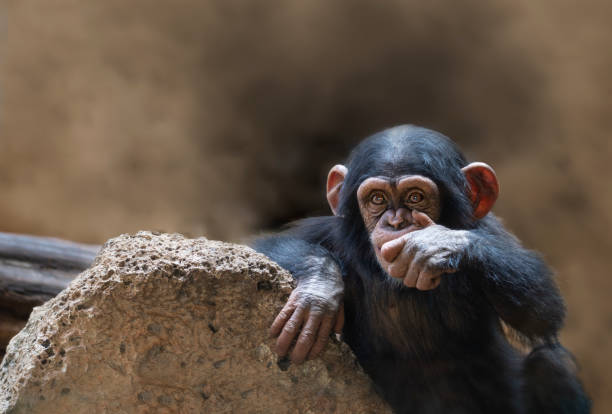chimpanzee: (315, 112, 503, 308)
